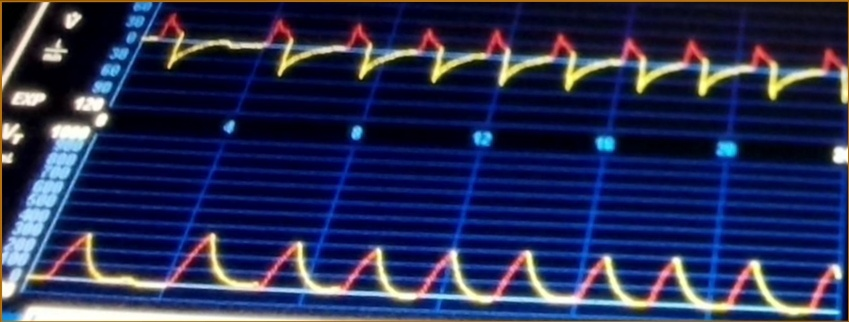Ineffective_effort Flow: (148, 10, 849, 112)
Ineffective_effort Volume: (39, 223, 835, 317)
